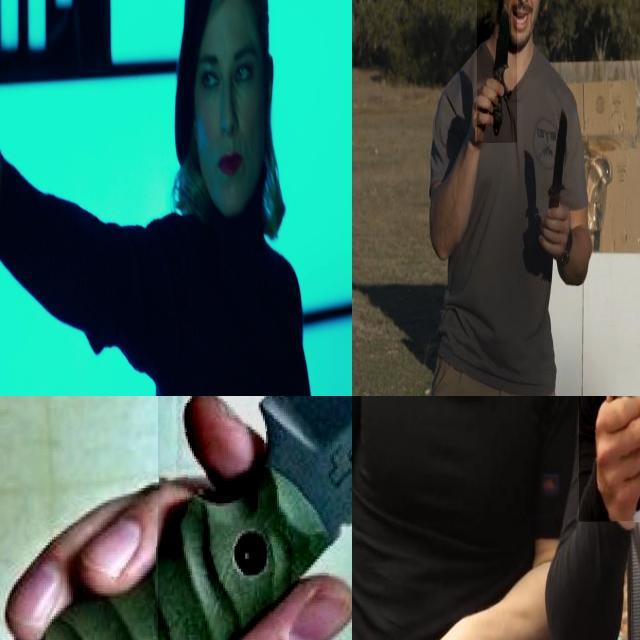-: (157, 396, 352, 640), (579, 396, 640, 560), (476, 0, 517, 144), (541, 103, 571, 255)
gun-knife-thesis - v11 Yolov5 augmented: (0, 47, 63, 228)
